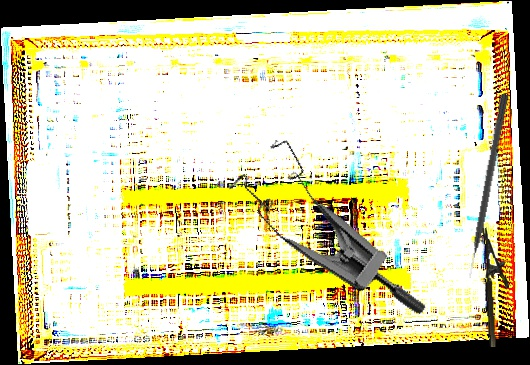Needle Holder: (481, 226, 513, 348)
Pusher: (463, 93, 510, 279)
Speculum: (211, 126, 466, 319)
